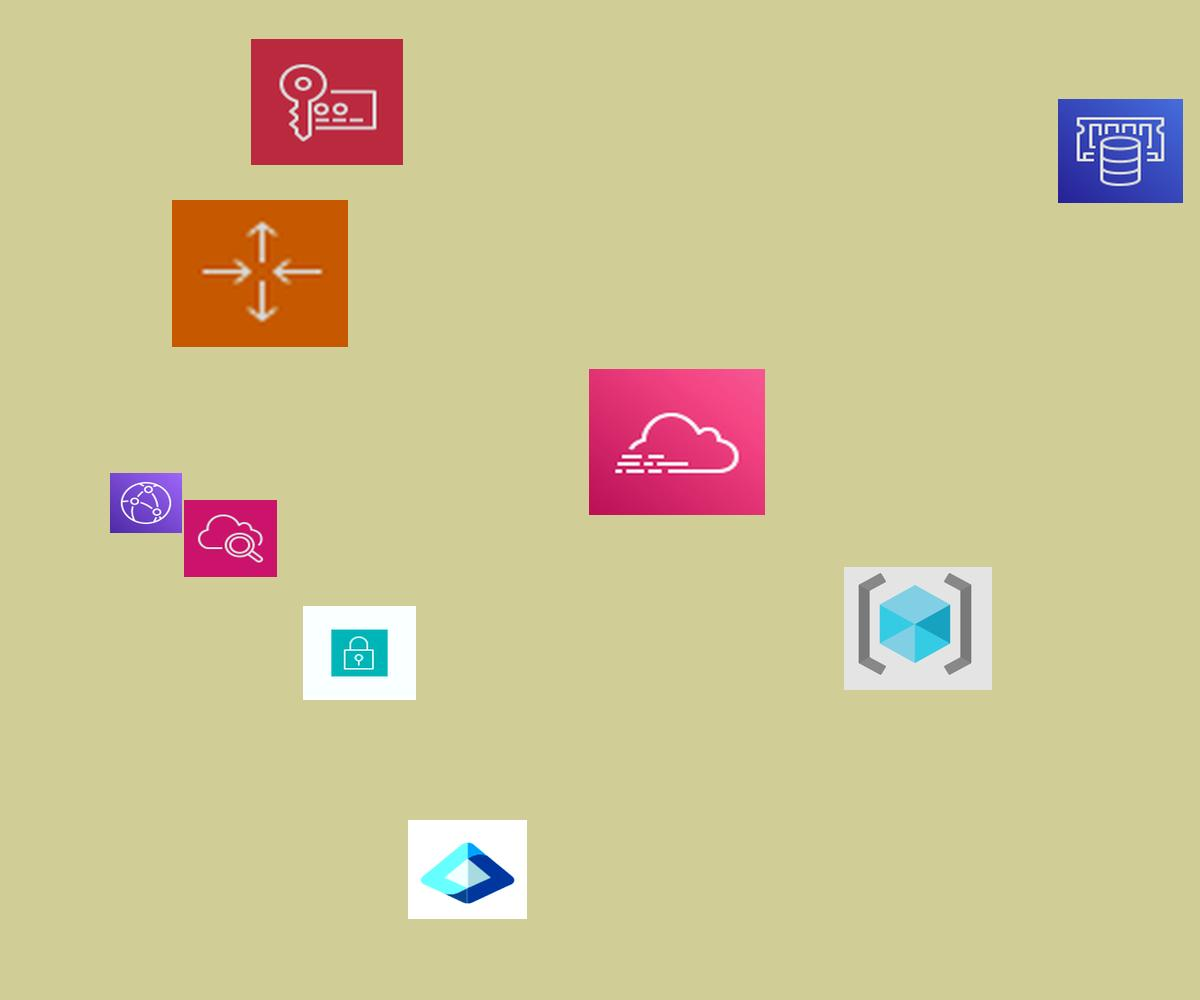AWS-CloudFront: (110, 473, 182, 533)
AWS-CloudTrail: (589, 369, 765, 515)
AWS-CloudWatch: (184, 500, 277, 577)
AWS-ElastiCache: (1058, 99, 1183, 203)
AWS-Key-Management-Service: (251, 39, 403, 165)
AWS-Private-subnet: (303, 606, 416, 700)
AWS-Scaling-group: (172, 200, 348, 347)
Azure_microsoft_entra: (408, 820, 527, 919)
Azure_resource_group: (844, 567, 992, 690)
